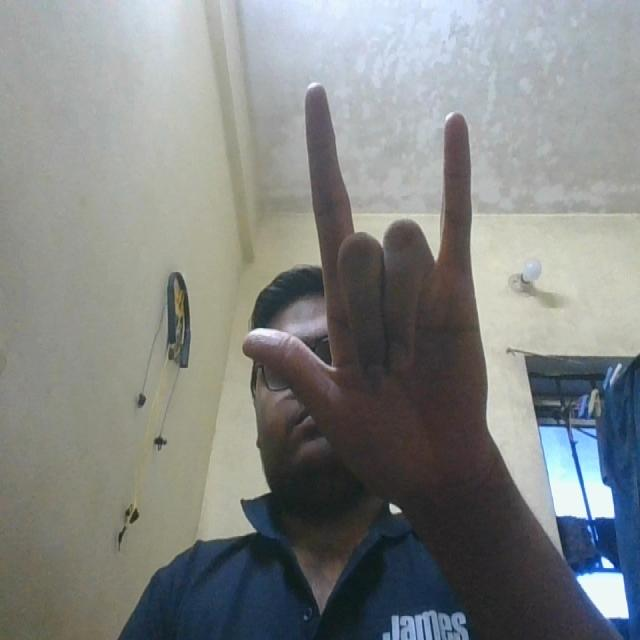iloveyou: (248, 76, 513, 470)
